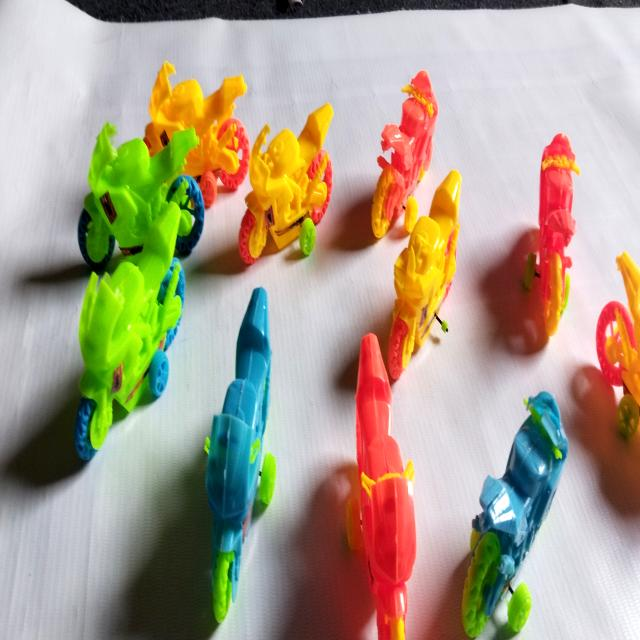bikes: (75, 203, 184, 460), (462, 392, 568, 637), (205, 287, 276, 622), (347, 333, 416, 640), (78, 123, 205, 269), (144, 62, 250, 207), (388, 171, 461, 379), (239, 104, 333, 264), (371, 71, 438, 238), (524, 134, 579, 337)
